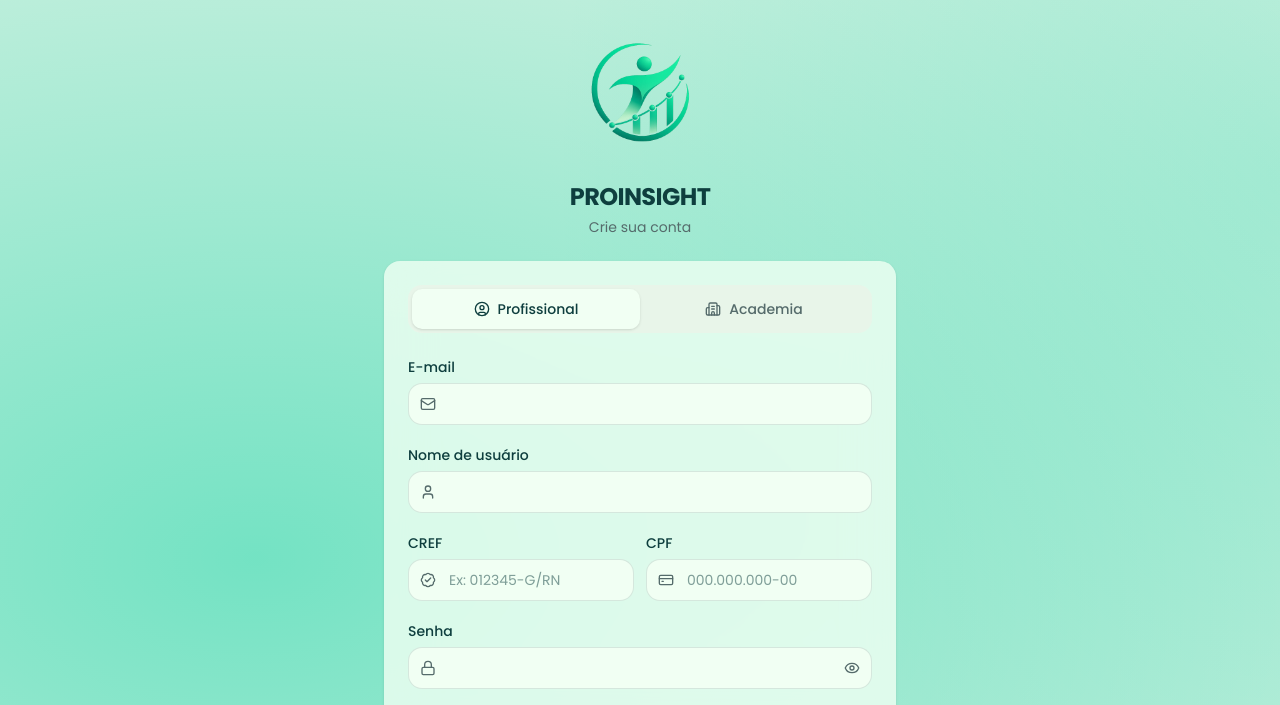
Test: RegisterPage › shows error for short password
In the password field labelled "Senha": (640, 668) [408,647,872,689], type "1234567"
(page scrolled)
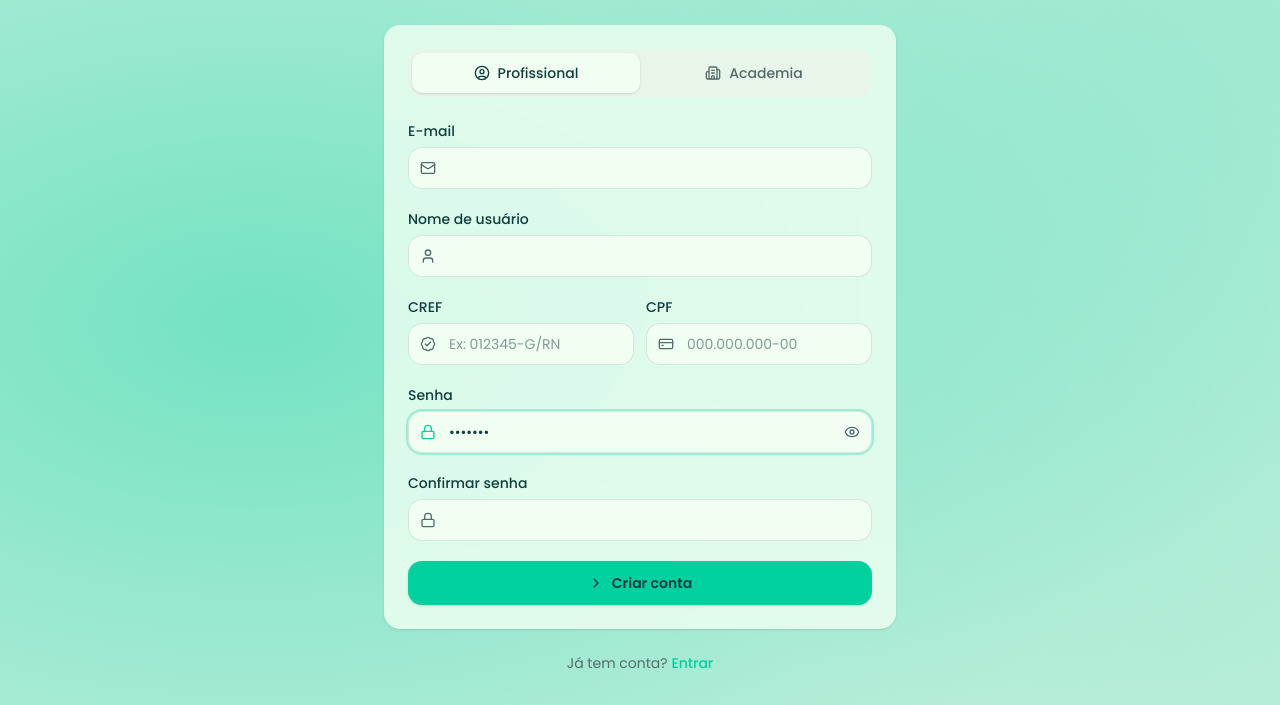
Click the button "Criar conta": (640, 583) [408,561,872,605]
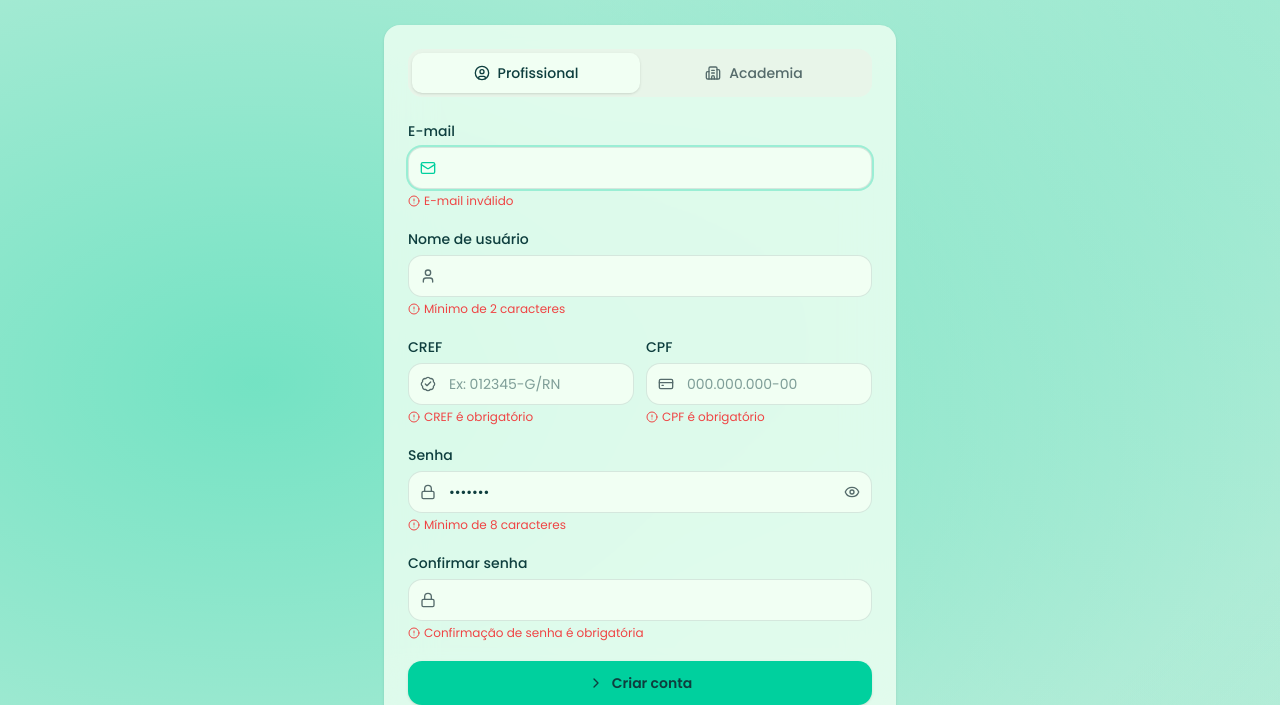
Now the text "Mínimo de 8 caracteres" is shown, box [408,516,566,533]
